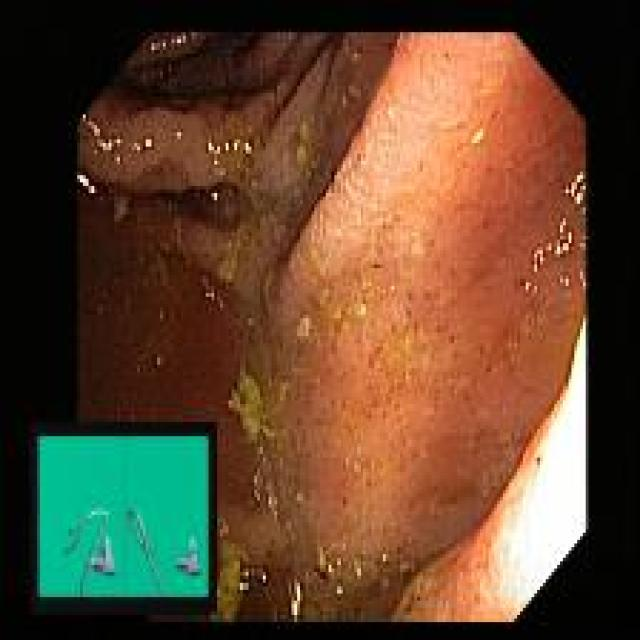ulcerative-colitis: (80, 33, 586, 623)
